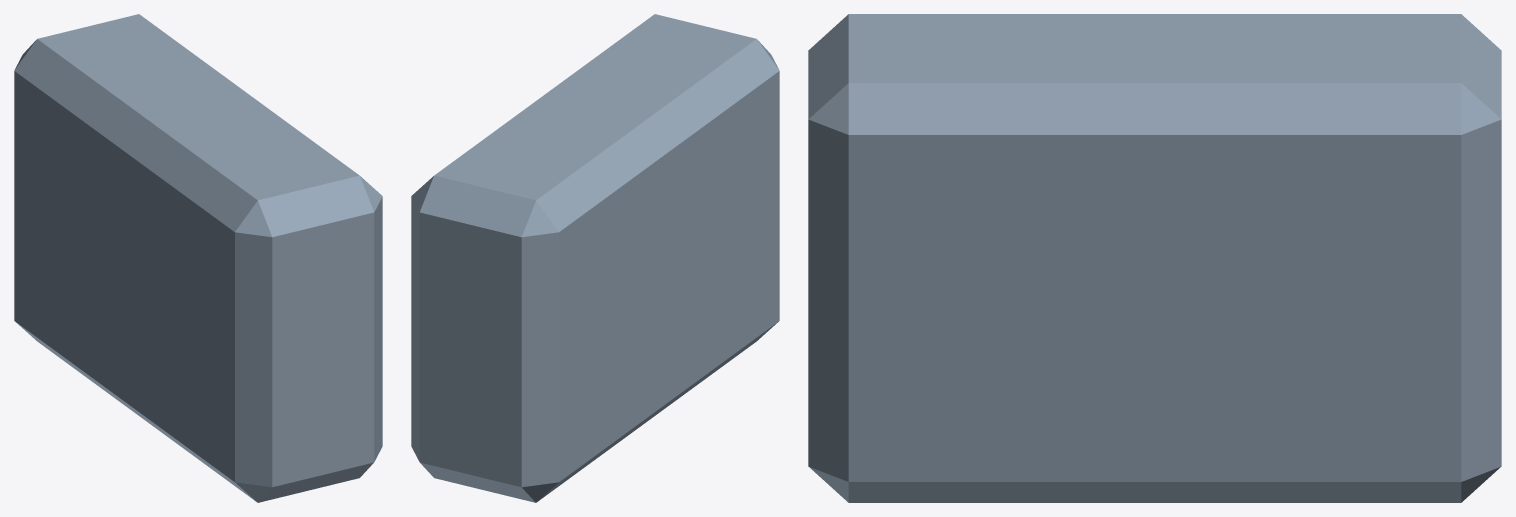
The model's file is Simple_Button_Large.fbx.
The picture shows the model from 3 angles, left to right: view 1: azimuth 30°, elevation 25°; view 2: azimuth 150°, elevation 25°; view 3: azimuth 270°, elevation 25°; orthographic projection. The views are drawn at different scales.
Visible parts, largest first — view 1: Cube; view 2: Cube; view 3: Cube.
Boxes of the visible parts, box(x1,y1,x2,y2) form: Cube: box(14, 14, 382, 502); Cube: box(411, 14, 779, 502); Cube: box(808, 14, 1501, 502).
Size of the model in its own units: 15.01 by 29.36 by 43.91.
